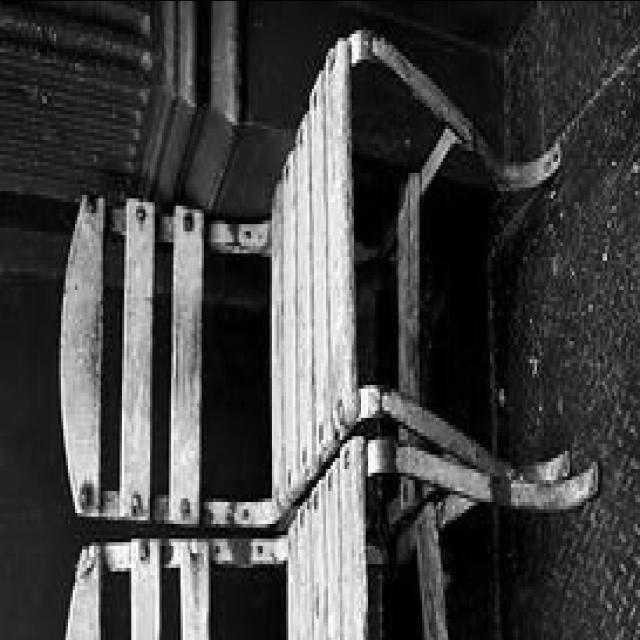chair: (52, 30, 572, 530)
